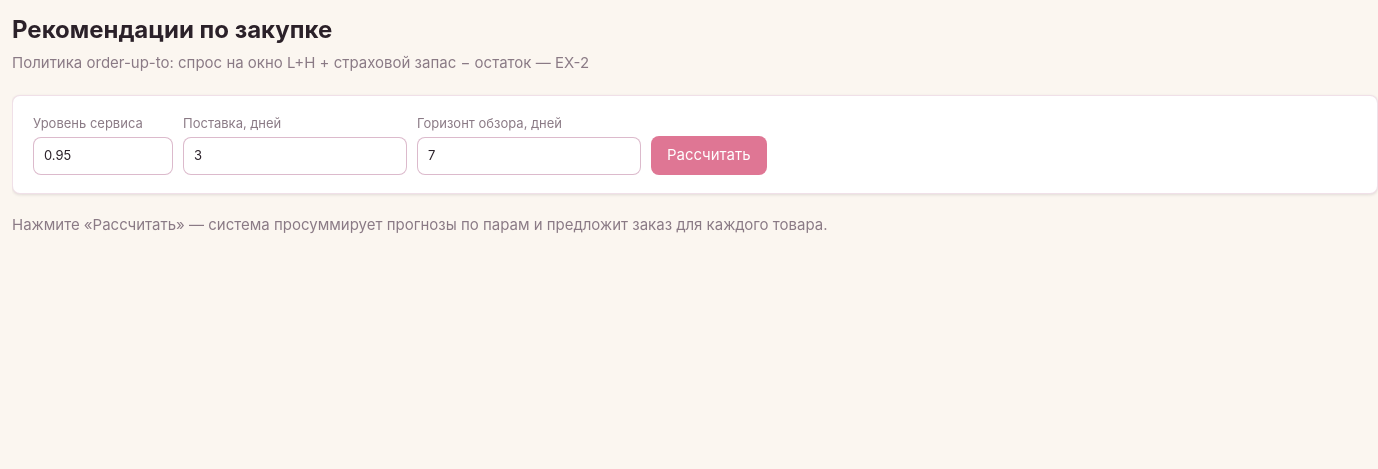
Test case: RecommendationsPage › passes custom policy params into the query string
The image size is (1378, 469).
Replace the text in the number field labelled "Уровень сервиса" with "0.99" at (103, 156), box 33,137 -> 173,174
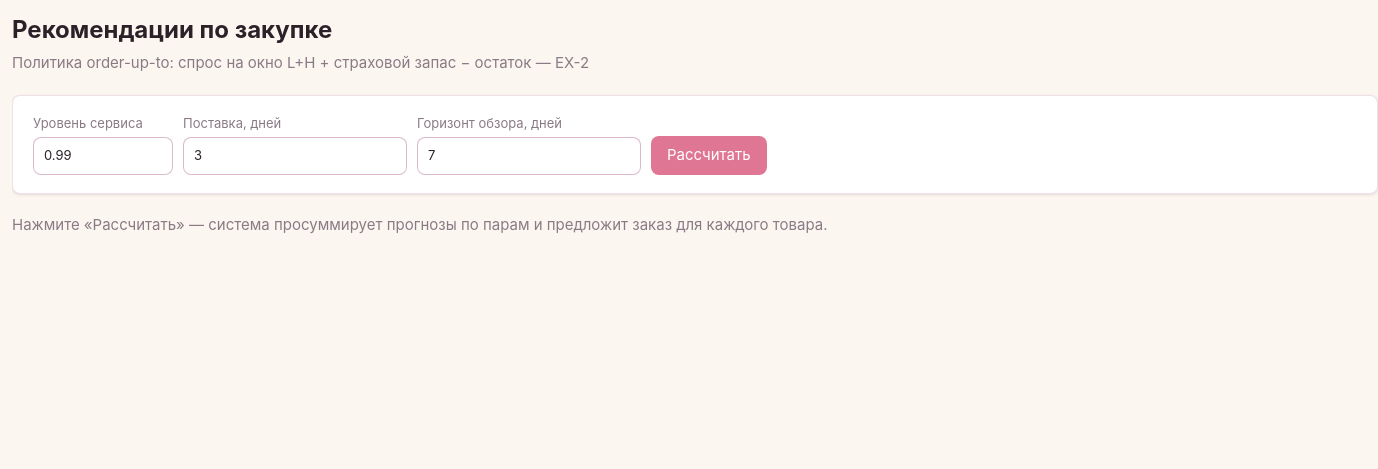
Replace the text in the number field labelled "Поставка, дней" with "5" at (295, 156), box 183,137 -> 407,174
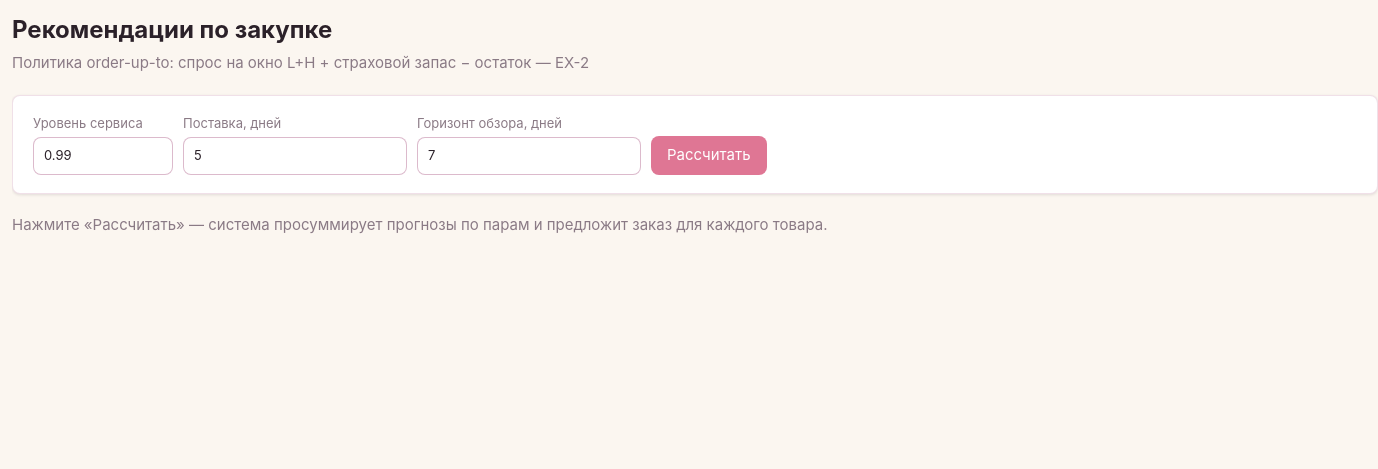
Click the button "Рассчитать" at (709, 155), box 651,136 -> 766,174
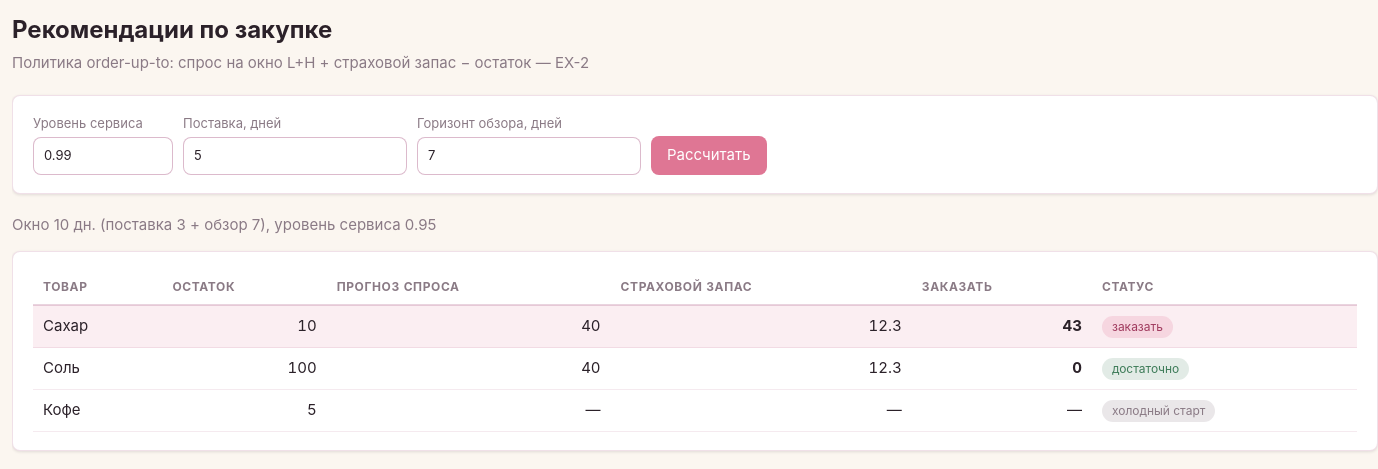
Expected: the text "заказать" is shown, 1102,316 -> 1173,338
